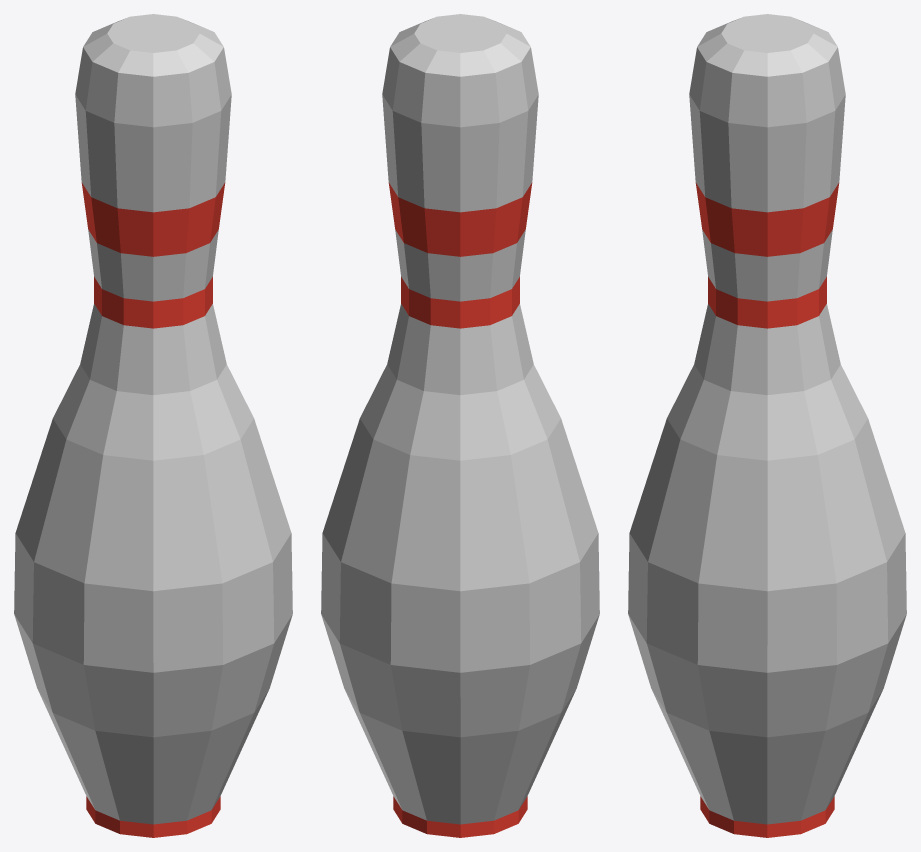
The model's file is Bowling Pin.glb.
The picture shows the model from 3 angles, left to right: view 1: azimuth 30°, elevation 25°; view 2: azimuth 150°, elevation 25°; view 3: azimuth 270°, elevation 25°; orthographic projection.
Visible parts, largest first — view 1: group1890306098; view 2: group1890306098; view 3: group1890306098.
Boxes of the visible parts, x1,y1,x2,y2 form: group1890306098: [14, 14, 292, 837]; group1890306098: [321, 14, 599, 837]; group1890306098: [628, 14, 906, 837].
Size of the model in its own units: 0.3744 by 1.15 by 0.3744.
